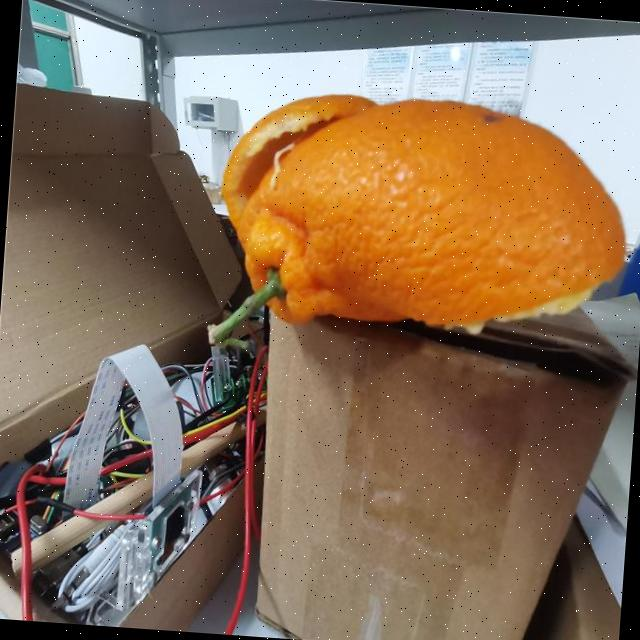orange-peel: (214, 82, 636, 347)
